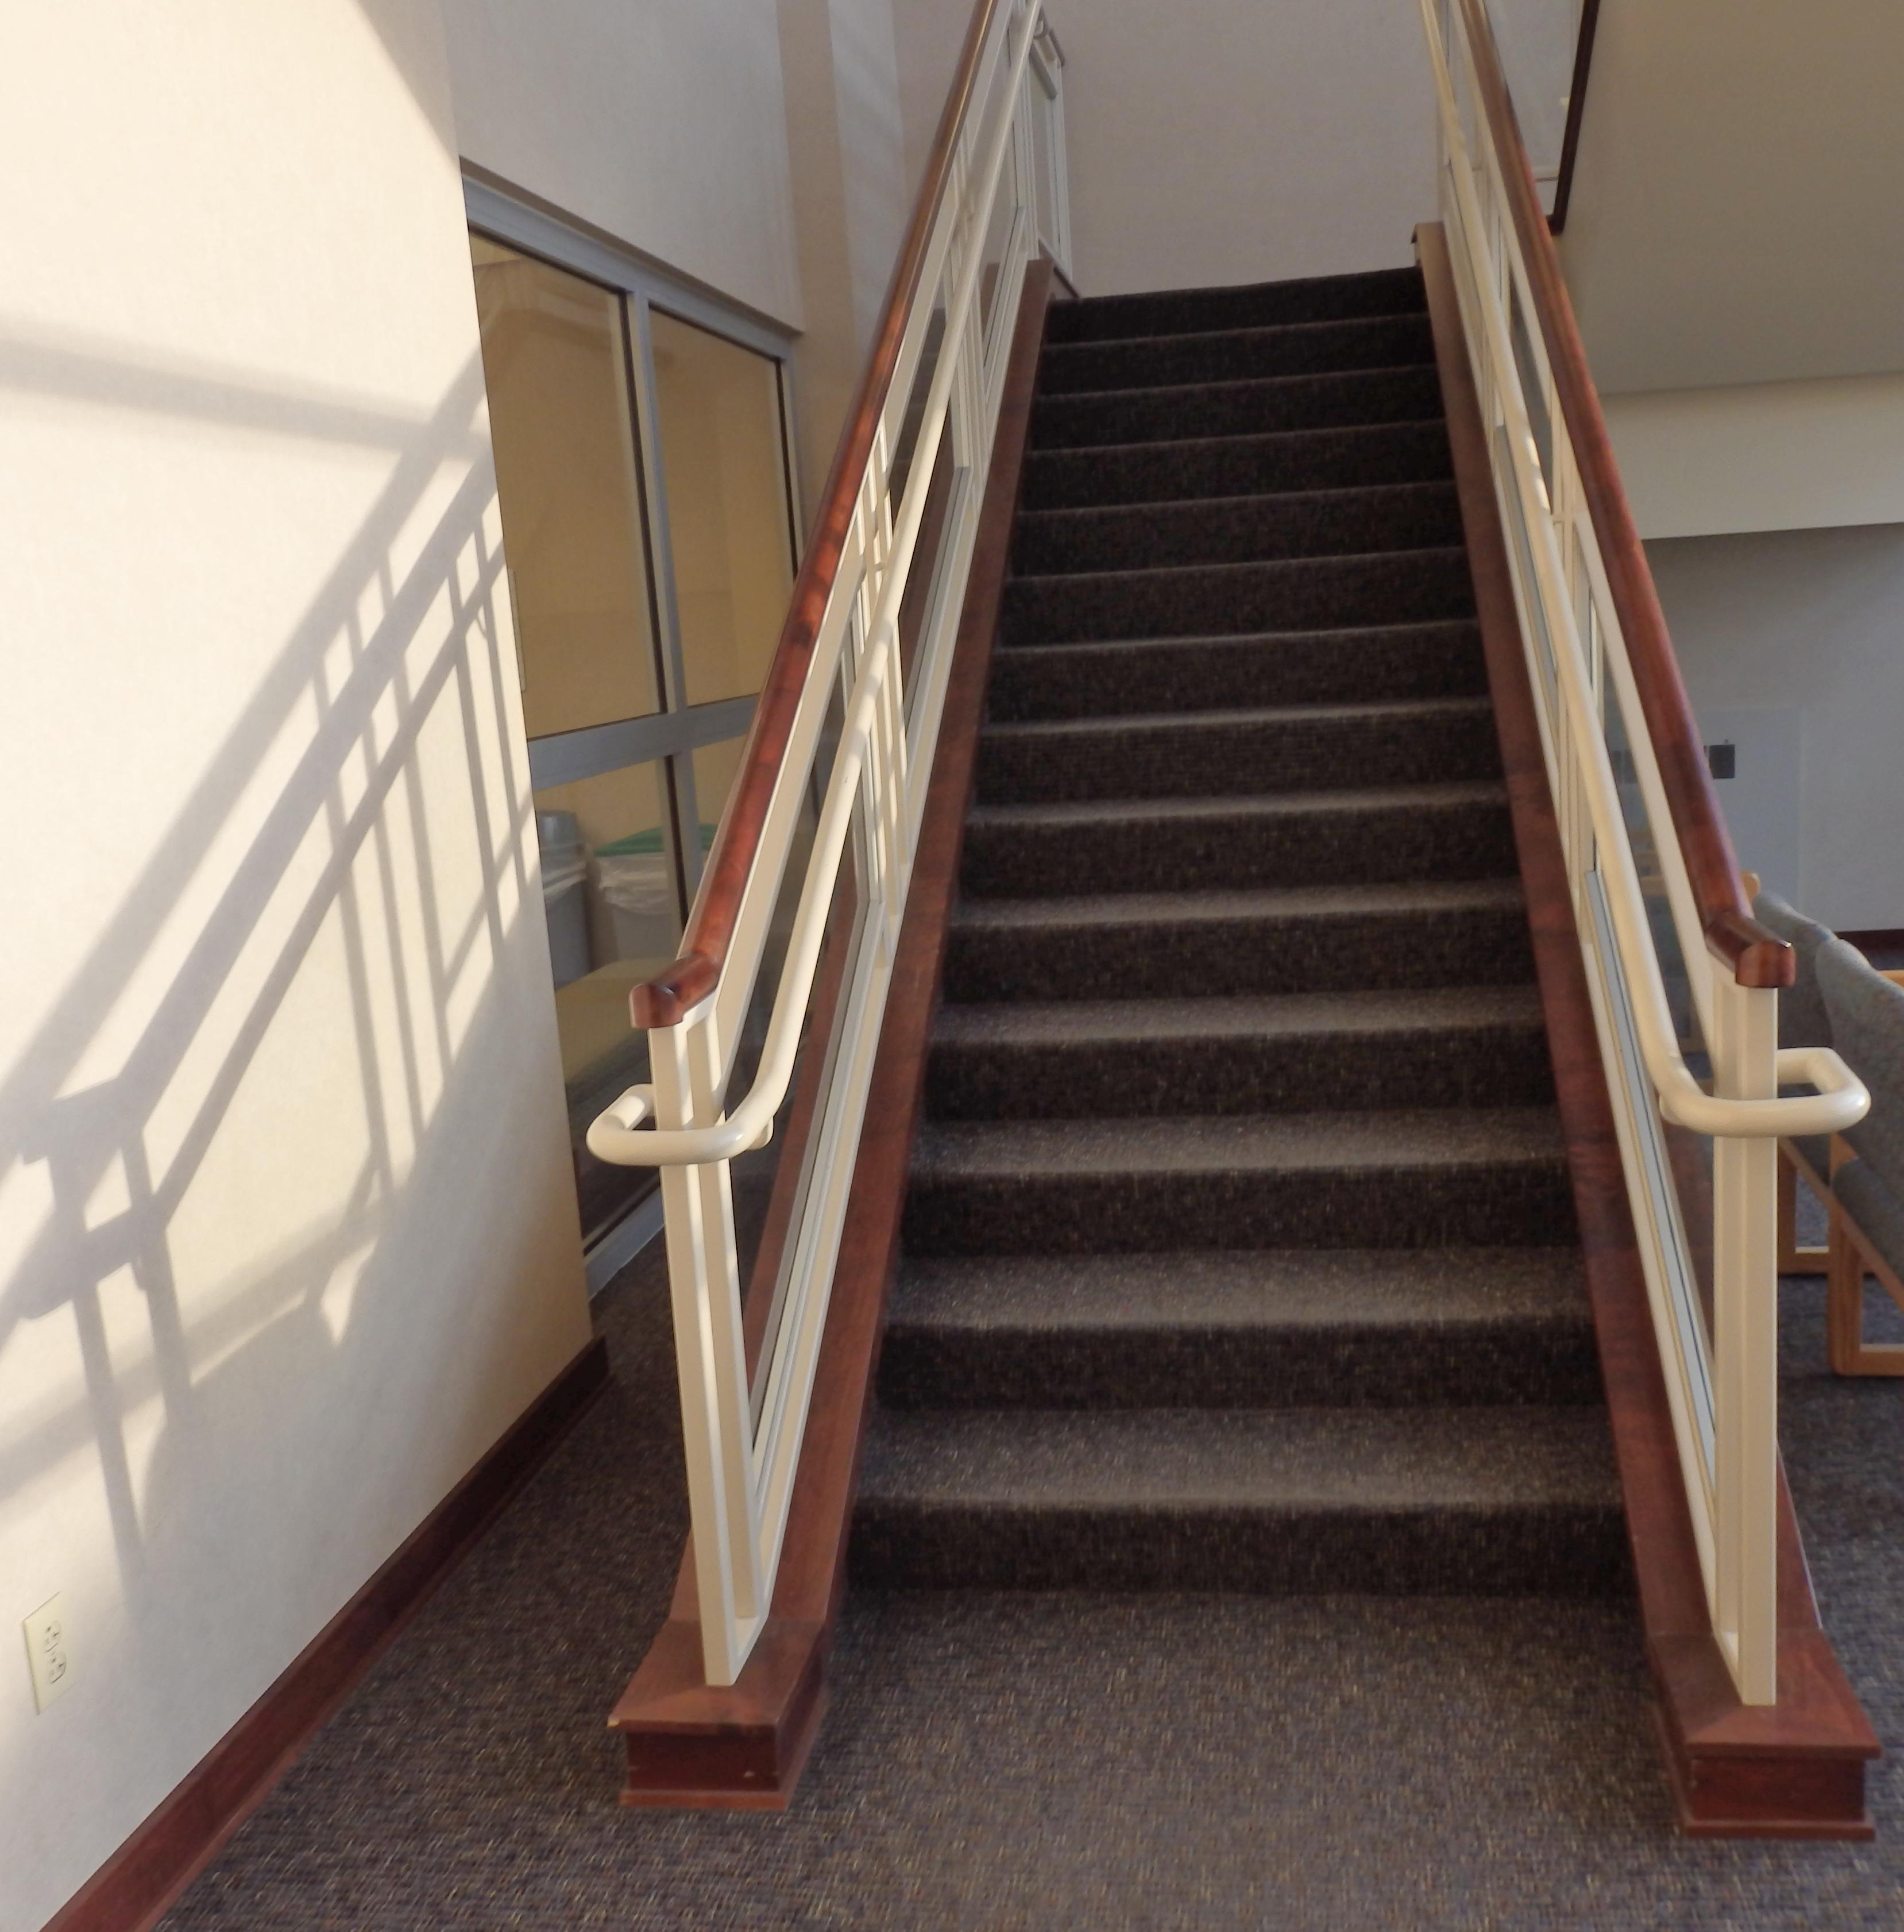stairs_up: (935, 276, 1594, 1653)
